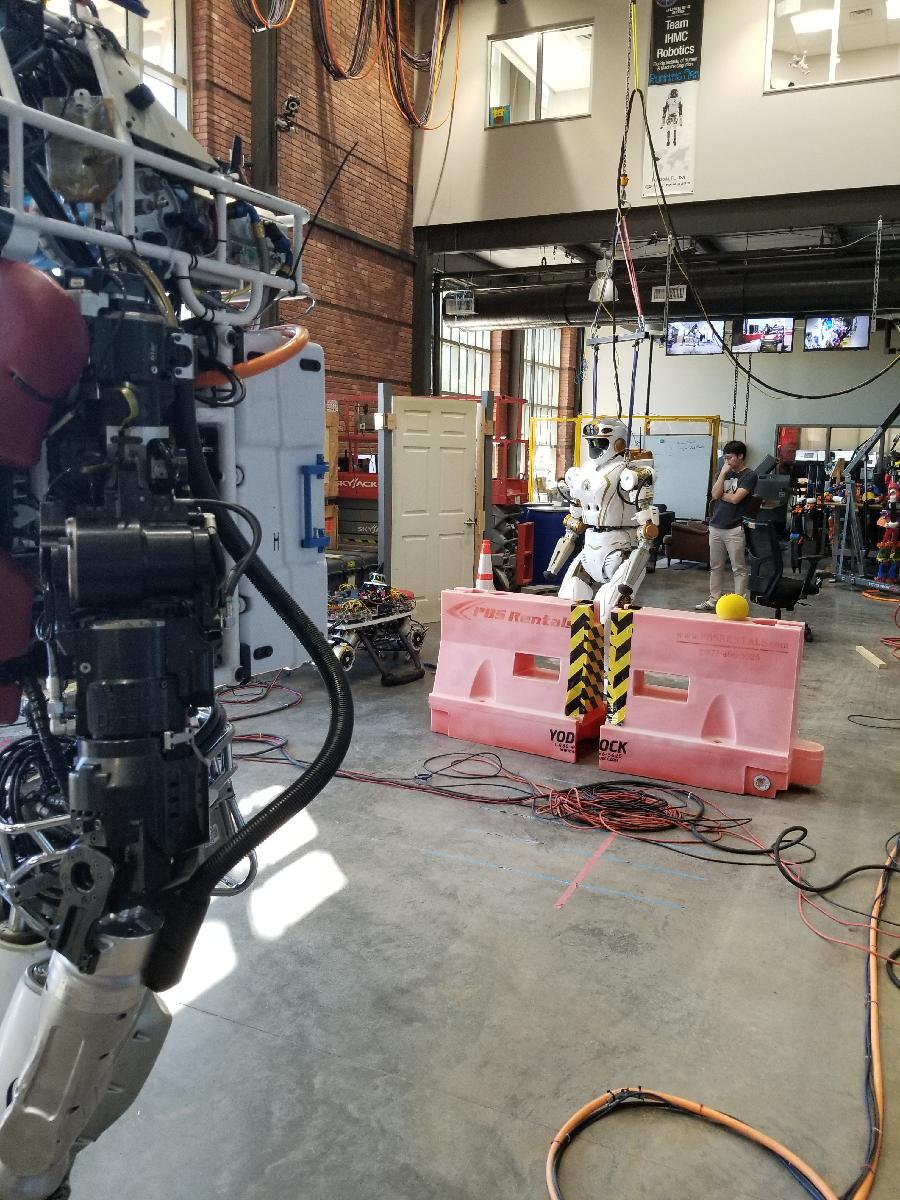door: (389, 393, 480, 642)
doorHandle: (458, 518, 477, 533)
